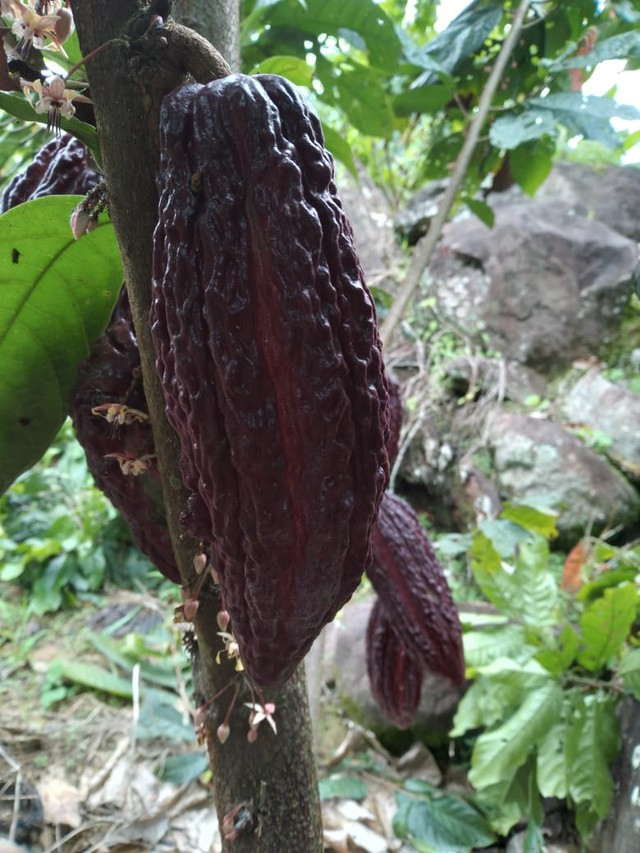Health: (132, 63, 406, 700)
